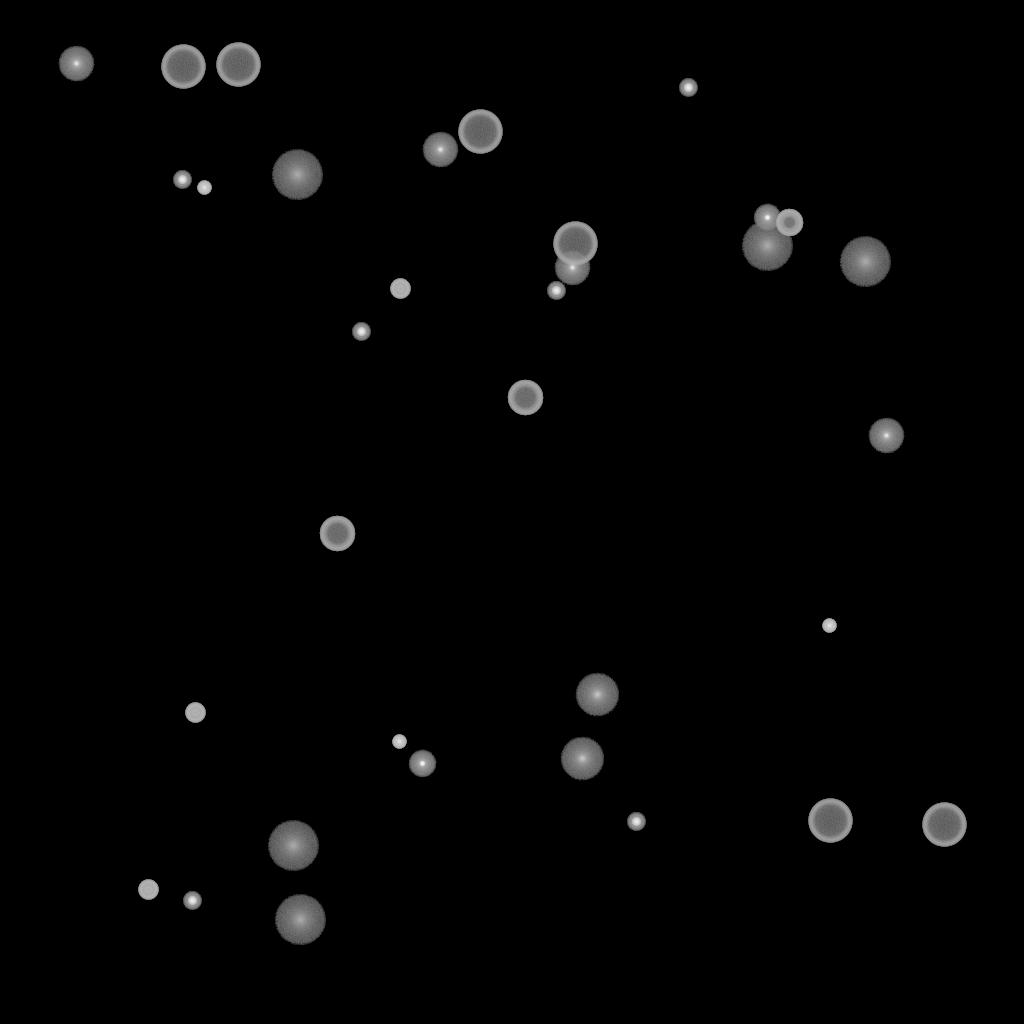depth:-10: (753, 204, 781, 232), (408, 750, 436, 778)
depth:-20: (627, 813, 645, 831), (352, 323, 370, 341), (183, 892, 201, 910), (173, 171, 191, 189), (679, 79, 697, 97), (547, 282, 565, 300)
depth:-30: (197, 181, 211, 195), (822, 619, 836, 633), (392, 735, 406, 749)
depth:-40: (138, 880, 158, 900), (185, 703, 205, 723), (390, 279, 410, 299)
depth:-50: (775, 209, 803, 237)
depth:-60: (319, 516, 355, 552), (507, 380, 543, 416)
depth:-70: (216, 43, 260, 87), (808, 799, 852, 843), (458, 110, 502, 154), (553, 222, 597, 266), (161, 45, 205, 89), (922, 803, 966, 847)
depth:0: (422, 132, 458, 168), (868, 418, 904, 454), (58, 46, 94, 82), (554, 250, 590, 286)
depth:10: (560, 737, 604, 781), (575, 673, 619, 717)
depth:20: (271, 150, 323, 200), (274, 895, 326, 945), (839, 237, 891, 287), (267, 821, 319, 871), (741, 221, 793, 271)
